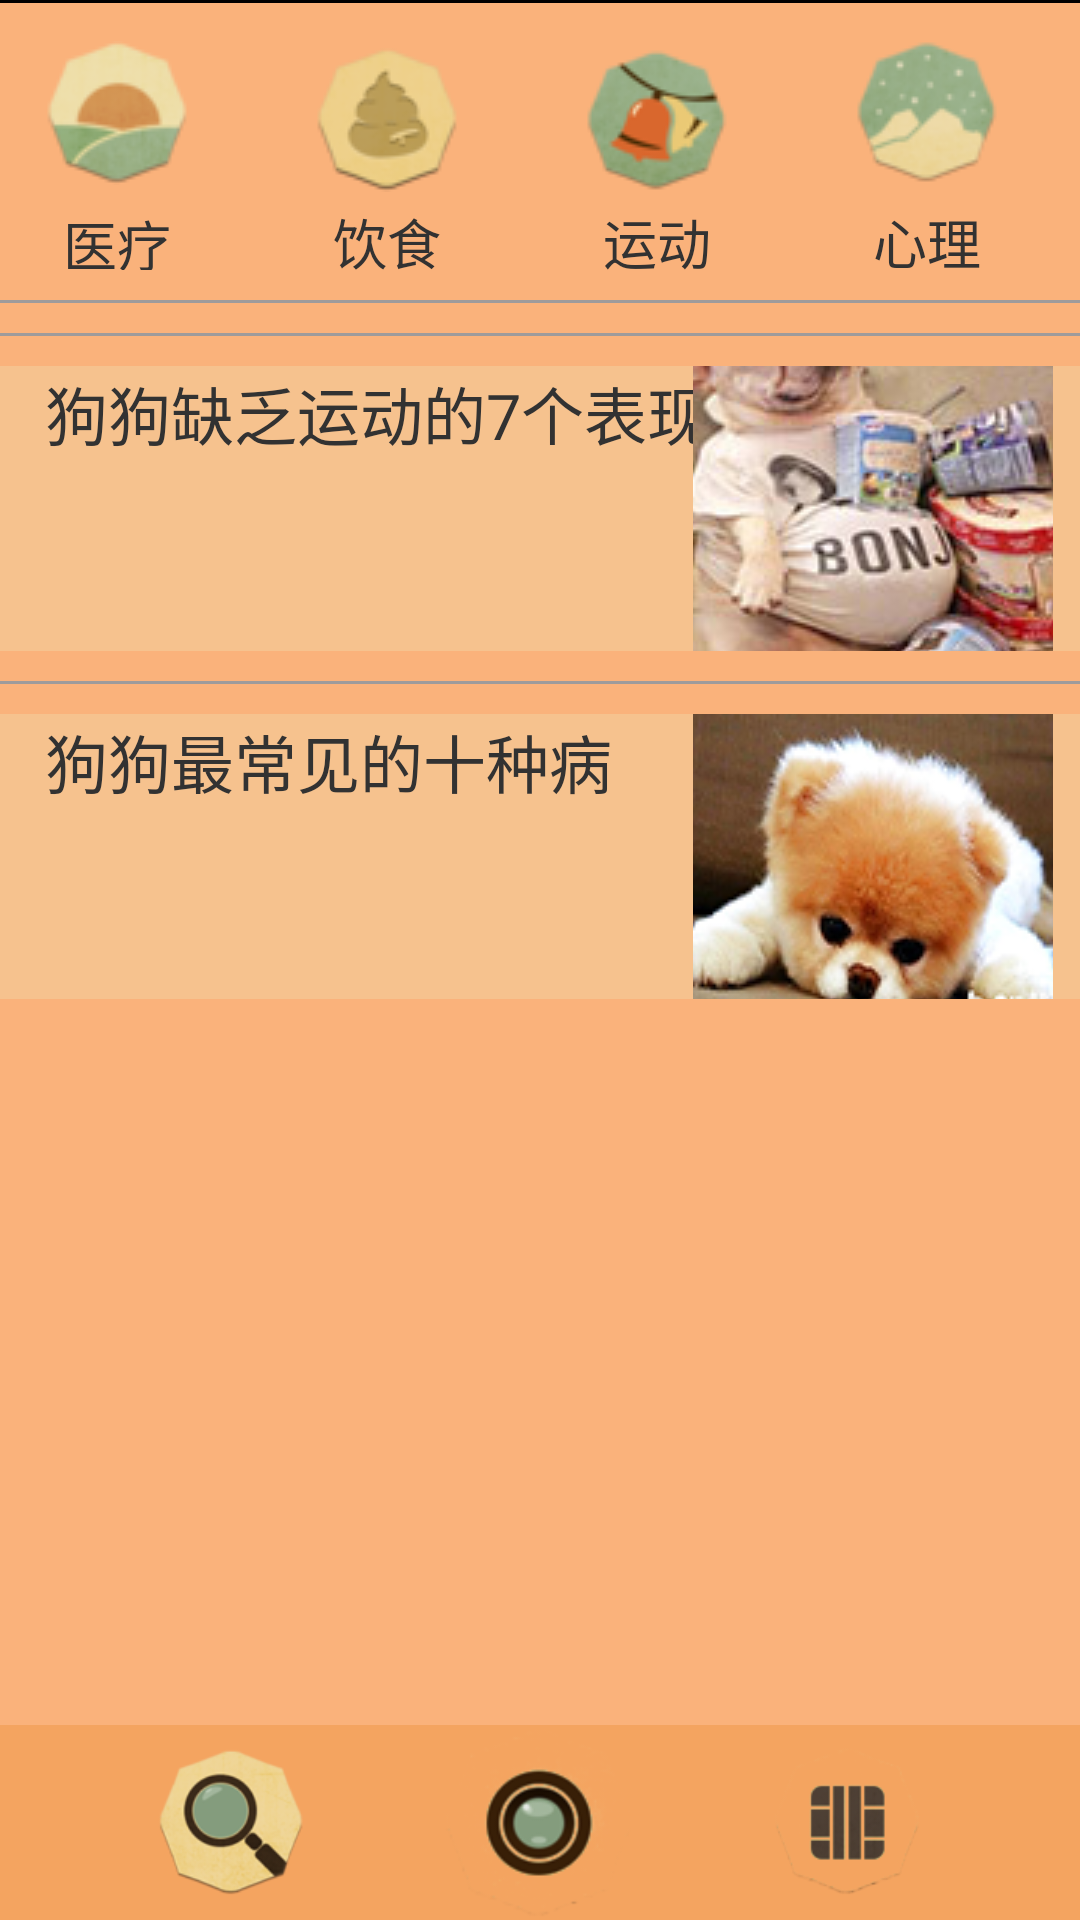

Point at icon controls on the screen. Image size 1080 x 1920, points as [x,y].
dog: [873,508], [873,856]
ling: [656,120]
snow: [926,112]
sun: [117,113]
